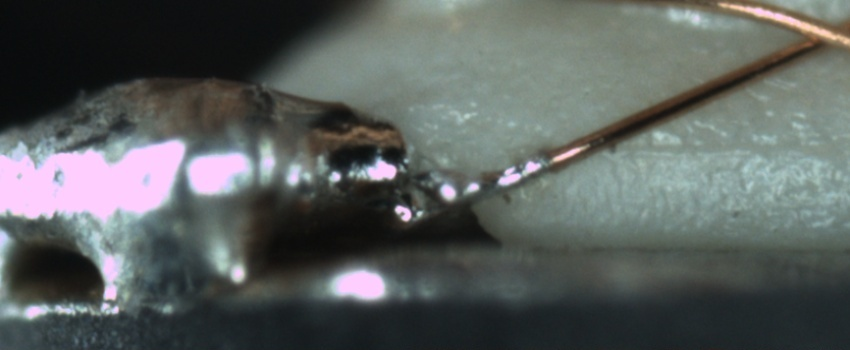CL: (775, 6, 848, 60)
DL: (609, 116, 849, 180)
TS: (414, 152, 548, 225)
TTCW: (417, 124, 611, 217)
